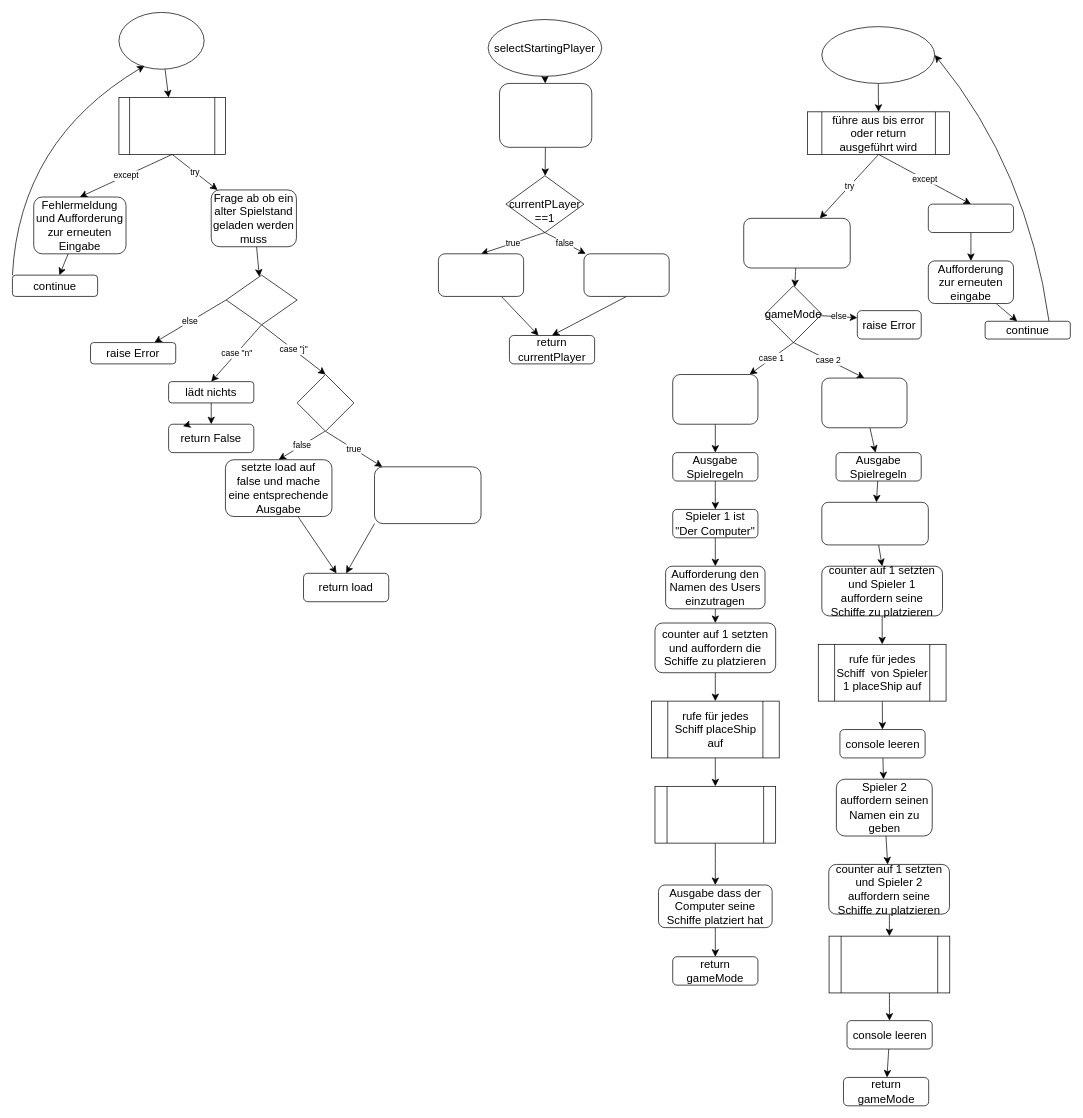
Image size: 1083x1118. Some labels were removed from this diagram. Here are the shapes that lost their labels. From the top down, the centre of each, then its label:
[161,40]: loadrequest
[878,54]: gameModeSelection
[171,125]: führe aus bis error oder bis return ausgeführt wird
[545,115]: bestimme eine zufällige zahl zwischen 1 und 2 und weise sie currentPLayer zu
[971,218]: raise Value Error
[796,243]: Abfrage welcher Spielmodus gespielt werden soll
[481,274]: ausgabe dass Spieler 1 anfangen darf
[626,274]: ausgabe, dass Spieler 2 anfangen darf
[261,299]: loadstorage
[325,402]: Daten sind vorhanden
[715,399]: Ausgabe, dass Einspieler Modus gewählt wurde
[864,402]: Ausgabe, dass Zweispieler Modus gewählt wurde
[427,495]: setzte load auf true und mache eine entsprechende ausgabe
[874,523]: Spieler 1 auffordern seinen Namen ein zu geben
[715,814]: rufe für jedes cpu Schiff placeCpuShip auf
[889,964]: rufe für jedes SChiff von Spieler 2 placeShip auf
